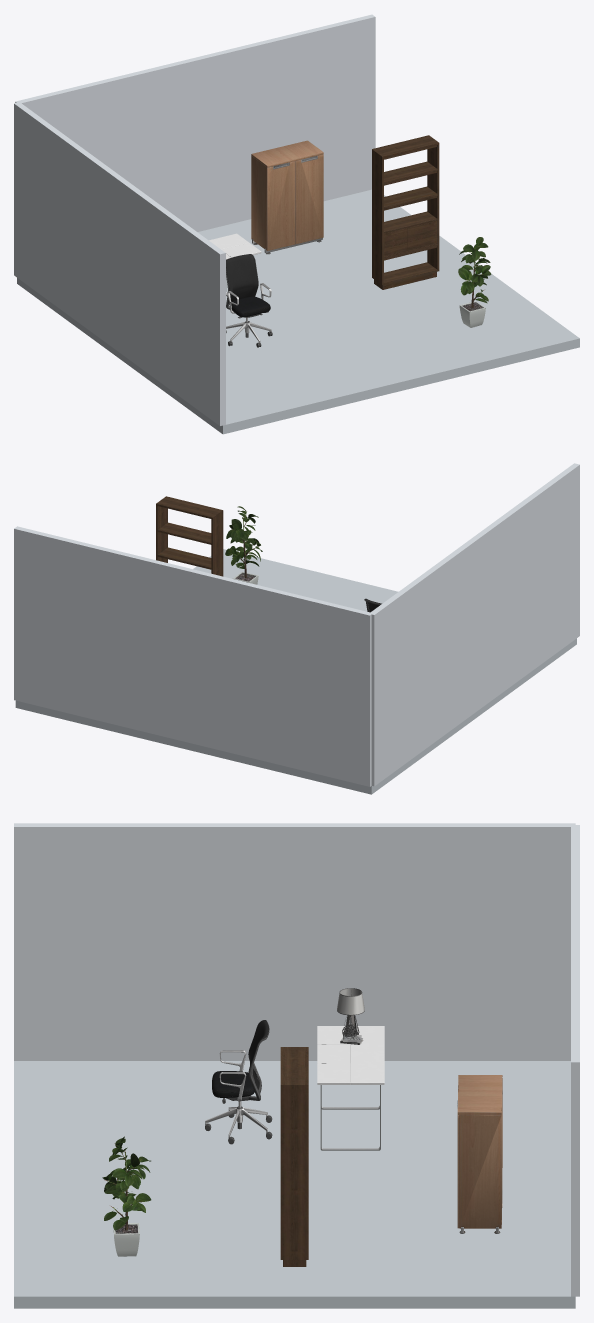
The model's file is stage3.glb.
The picture shows the model from 3 angles, top to bottom: view 1: azimuth 30°, elevation 25°; view 2: azimuth 150°, elevation 25°; view 3: azimuth 270°, elevation 25°; orthographic projection. The views are drawn at different scales.
Parts seen in each view (by area): view 1: Floor, wall_back, wall_left, raw_model.002, raw_model.003, raw_model.001, raw_model.004, raw_model; view 2: wall_back, wall_left, Floor, raw_model.002, raw_model.004; view 3: wall_left, Floor, raw_model.003, raw_model.002, raw_model, wall_back, raw_model.001, raw_model.004, raw_model.005.
Boxes of the visible parts, bbox=[...] form: Floor: bbox=[17, 189, 579, 434]; wall_back: bbox=[15, 14, 375, 231]; wall_left: bbox=[14, 102, 225, 425]; raw_model.002: bbox=[372, 135, 439, 289]; raw_model.003: bbox=[251, 140, 323, 254]; raw_model.001: bbox=[226, 254, 272, 347]; raw_model.004: bbox=[458, 237, 491, 327]; raw_model: bbox=[209, 233, 261, 295]; wall_back: bbox=[14, 526, 372, 786]; wall_left: bbox=[370, 463, 579, 786]; Floor: bbox=[15, 549, 576, 794]; raw_model.002: bbox=[156, 496, 223, 576]; raw_model.004: bbox=[225, 506, 262, 584]; wall_left: bbox=[14, 823, 575, 1060]; Floor: bbox=[14, 1061, 575, 1308]; raw_model.003: bbox=[457, 1075, 502, 1233]; raw_model.002: bbox=[280, 1047, 308, 1266]; raw_model: bbox=[317, 1026, 384, 1150]; wall_back: bbox=[571, 825, 579, 1296]; raw_model.001: bbox=[205, 1020, 272, 1144]; raw_model.004: bbox=[102, 1136, 151, 1256]; raw_model.005: bbox=[337, 988, 364, 1044].
Size of the model in its own units: 5.04 by 2.42 by 5.04.
Materials: 8 (6 with a texture image).
